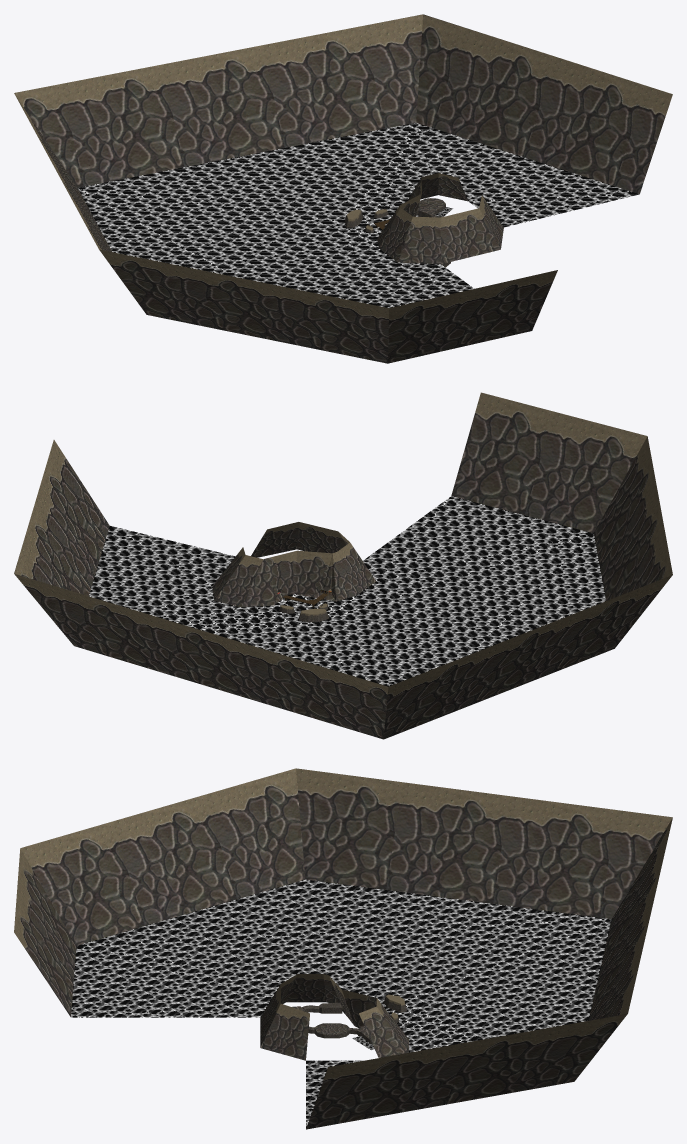
3 renders of one model, top to bottom at view 1: azimuth 30°, elevation 25°; view 2: azimuth 150°, elevation 25°; view 3: azimuth 270°, elevation 25°, orthographic. The views are drawn at different scales.
Visible parts, largest first — view 1: Cavectjb3-SKP--TR_caveWall01.001, Cavectjb3-SKP--sea.001; view 2: Cavectjb3-SKP--TR_caveWall01.001, Cavectjb3-SKP--sea.001; view 3: Cavectjb3-SKP--TR_caveWall01.001, Cavectjb3-SKP--sea.001.
Part boxes in pixels (x1=…): Cavectjb3-SKP--TR_caveWall01.001: x1=14, y1=14, x2=672, y2=363; Cavectjb3-SKP--sea.001: x1=78, y1=123, x2=638, y2=307; Cavectjb3-SKP--TR_caveWall01.001: x1=14, y1=392, x2=672, y2=739; Cavectjb3-SKP--sea.001: x1=89, y1=496, x2=605, y2=686; Cavectjb3-SKP--TR_caveWall01.001: x1=14, y1=768, x2=672, y2=1129; Cavectjb3-SKP--sea.001: x1=71, y1=879, x2=611, y2=1128.
Size of the model in its own units: 433944 by 66525 by 404515.
Materials: 8 (8 with a texture image).
